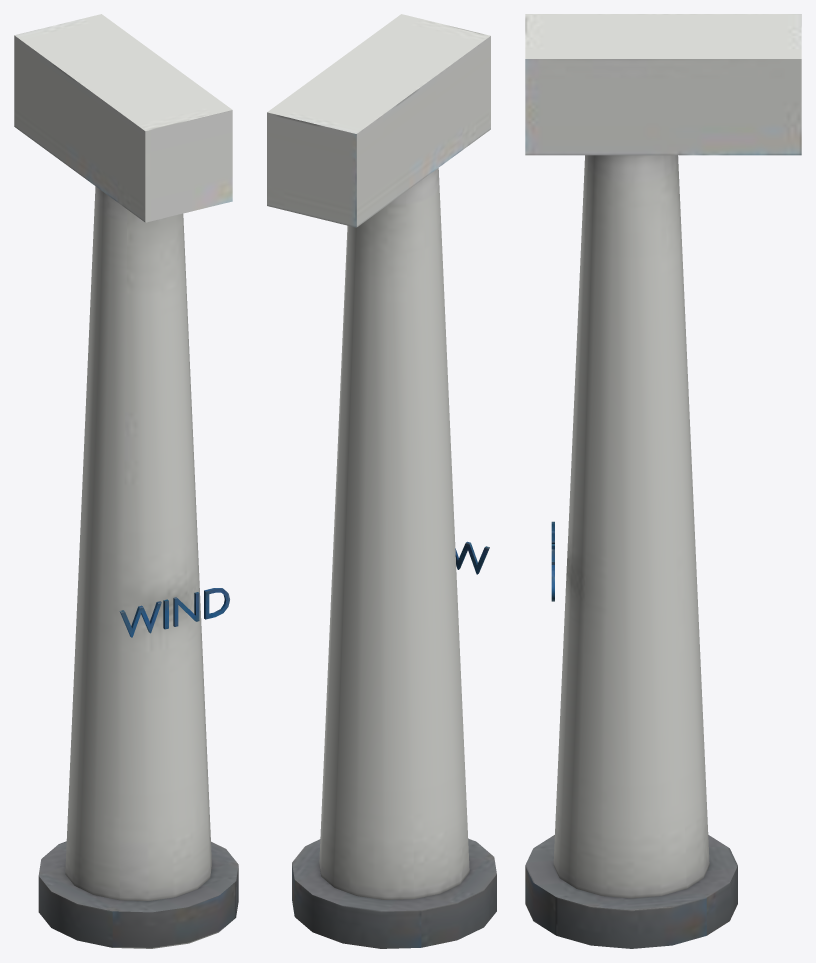
File: molino_torre.glb
3 views of the same model, side by side, from view 1: azimuth 30°, elevation 25°; view 2: azimuth 150°, elevation 25°; view 3: azimuth 270°, elevation 25° (orthographic). The views are drawn at different scales.
Parts seen in each view (by area): view 1: molino_torre; view 2: molino_torre; view 3: molino_torre.
Part boxes in pixels (x1,y1,x2,y2): molino_torre: [14, 14, 238, 948]; molino_torre: [267, 14, 496, 948]; molino_torre: [525, 14, 801, 948].
Bounding box in the file's own units: 2 × 9 × 2.6.
Materials: 1 (1 with a texture image).
